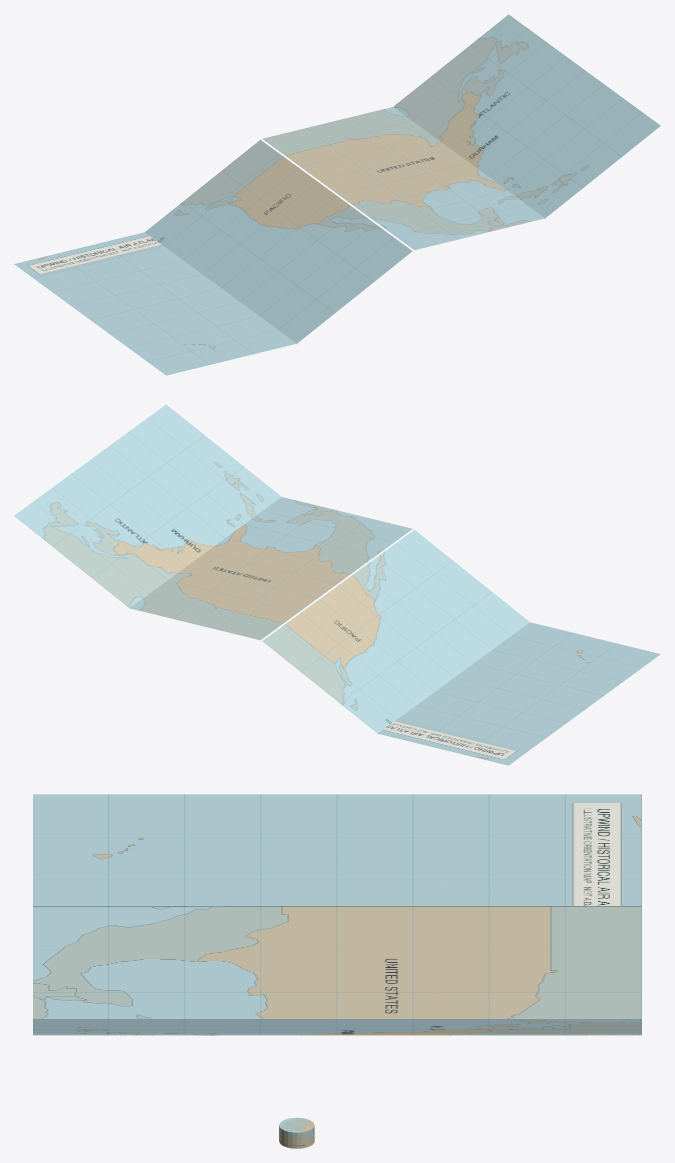
File: unfolding-map.glb
The picture shows the model from 3 angles, top to bottom: view 1: azimuth 30°, elevation 25°; view 2: azimuth 150°, elevation 25°; view 3: azimuth 270°, elevation 25°; orthographic projection. The views are drawn at different scales.
Parts seen in each view (by area): view 1: MapPanel_4, MapPanel_2, MapPanel_3, MapPanel_1; view 2: MapPanel_4, MapPanel_2, MapPanel_3, MapPanel_1; view 3: MapPanel_3, MapPanel_1, MapPanel_4, Illustrative_Durham_Anchor, MapPanel_2.
Boxes of the visible parts, box(x1,y1,x2,y2) form: MapPanel_4: box(393, 14, 660, 218); MapPanel_2: box(145, 140, 412, 344); MapPanel_3: box(262, 107, 545, 250); MapPanel_1: box(14, 232, 297, 375); MapPanel_4: box(14, 404, 281, 608); MapPanel_2: box(262, 530, 529, 734); MapPanel_3: box(129, 497, 412, 640); MapPanel_1: box(377, 622, 660, 765); MapPanel_3: box(33, 907, 641, 1035); MapPanel_1: box(33, 794, 641, 905); MapPanel_4: box(33, 1019, 641, 1034); Illustrative_Durham_Anchor: box(279, 1117, 314, 1148); MapPanel_2: box(33, 906, 641, 906).
Size of the model in its own units: 4.5 by 1.13 by 2.4.
Materials: 5 (5 with a texture image).
